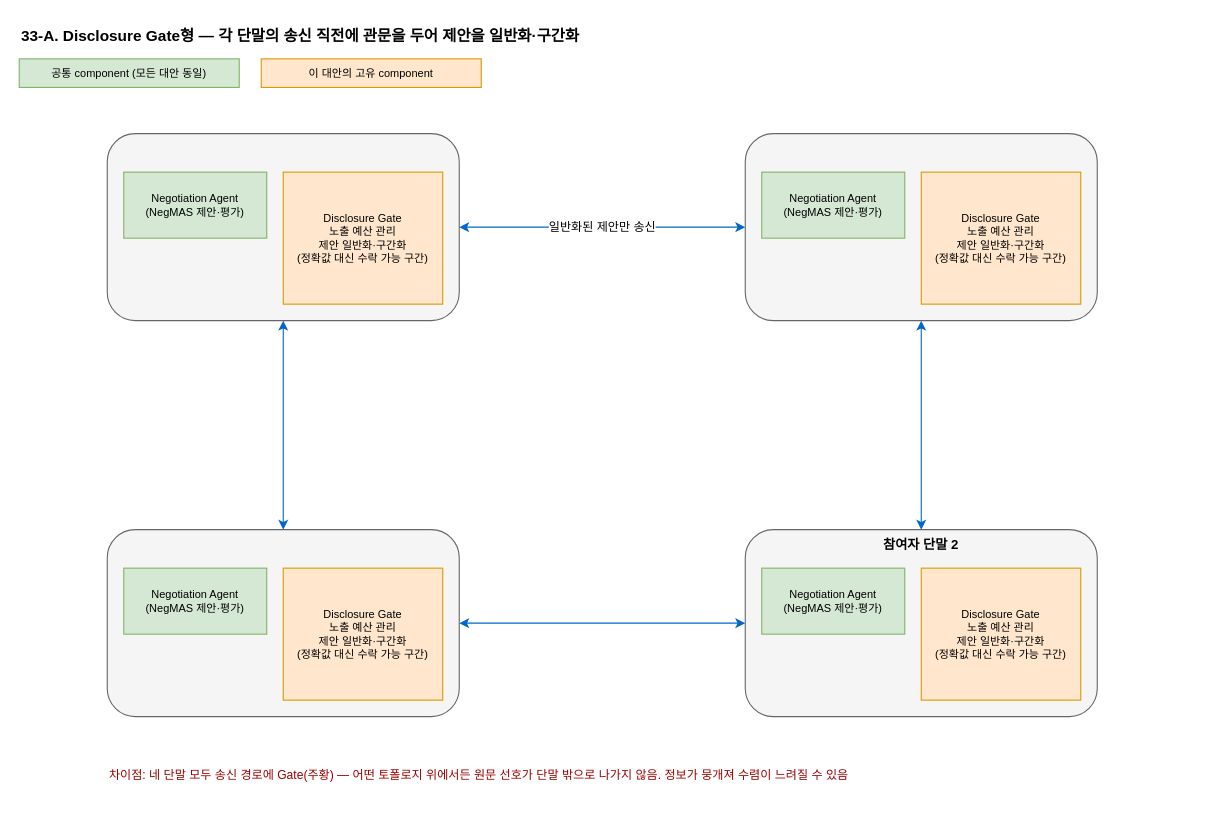
This 1205x823 diagram has some shape labels left out. The box of each missing label's shape, as (x1, y1, x2, y2) in pixels:
개시자 단말: (106, 133, 459, 321)
참여자 단말 1: (744, 133, 1097, 321)
참여자 단말 3: (106, 529, 459, 717)
